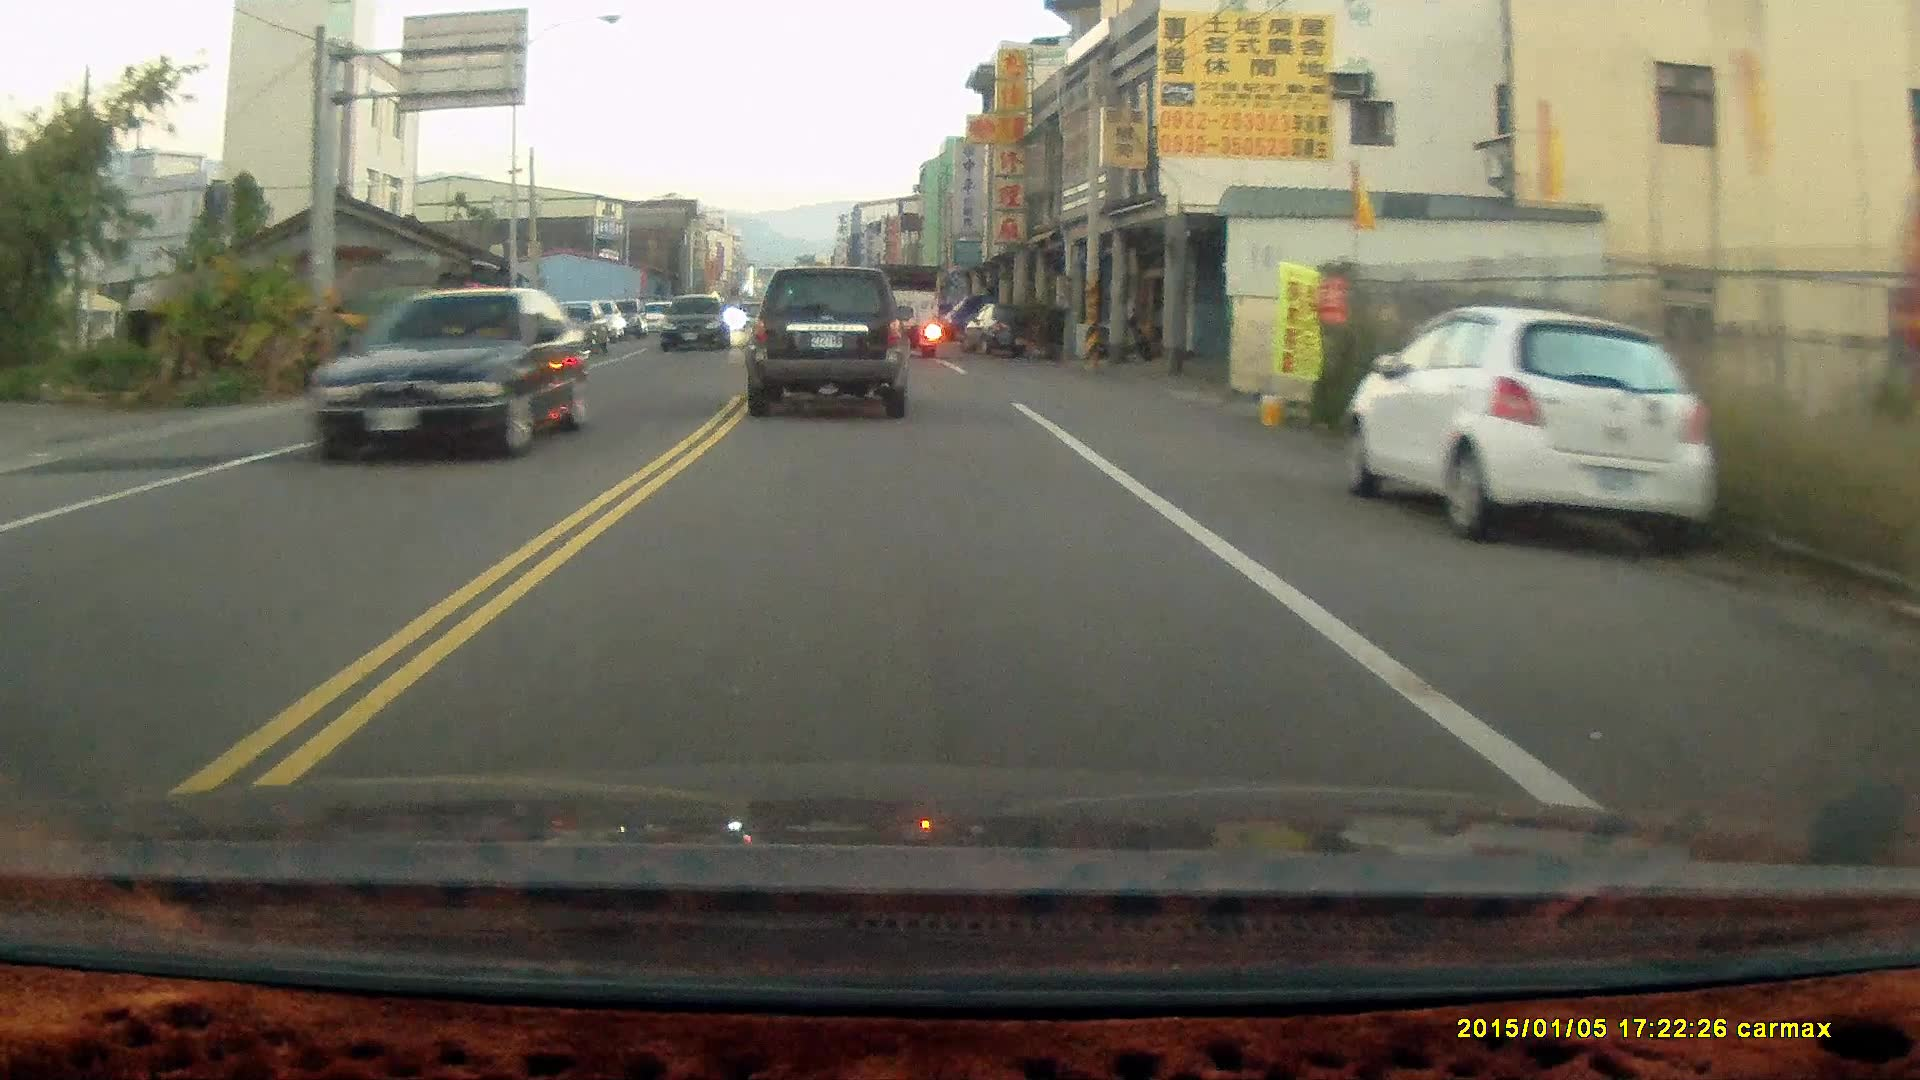vehicle: (1346, 303, 1712, 547), (306, 282, 592, 463), (744, 265, 918, 421), (869, 260, 945, 359), (657, 290, 735, 351), (527, 294, 607, 352)
